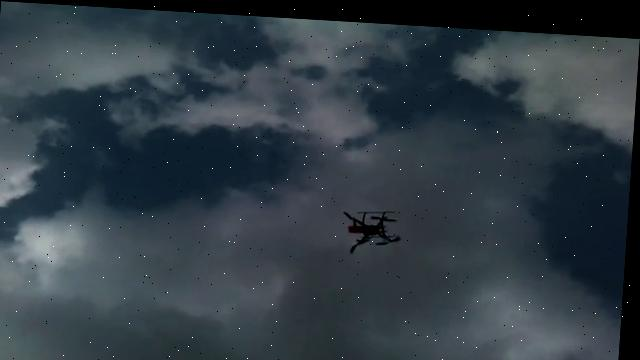drone: (340, 202, 406, 251)
